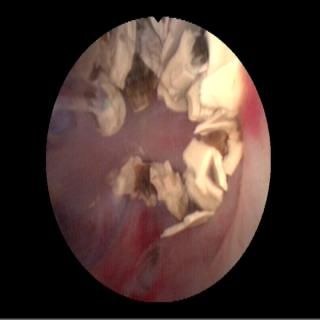stone: (75, 19, 241, 237)
tissue: (51, 83, 267, 296)
